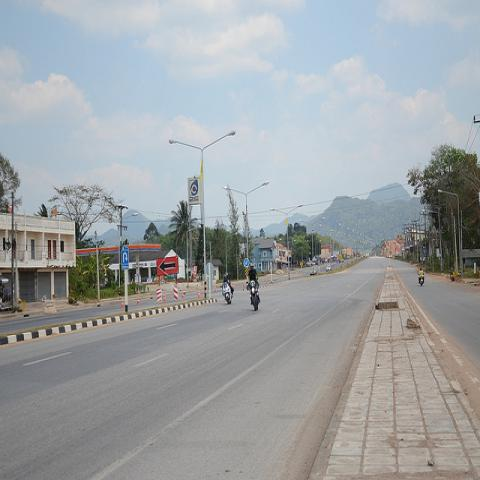car: (326, 264, 332, 272), (306, 260, 313, 266), (322, 257, 328, 263), (342, 259, 344, 262)
motorcycle: (247, 278, 260, 311), (222, 282, 232, 304), (448, 267, 456, 281), (418, 276, 426, 287)
